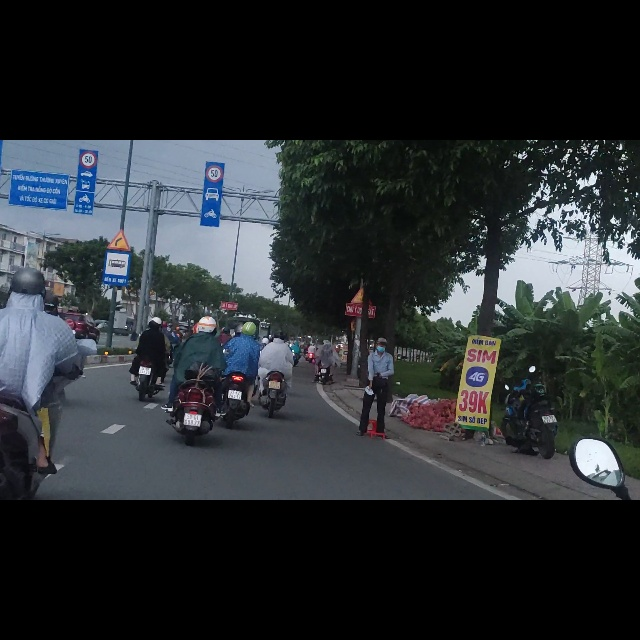bien_nguy_hiem: (103, 196, 130, 260), (107, 157, 131, 196), (206, 44, 223, 76), (79, 20, 96, 50)
